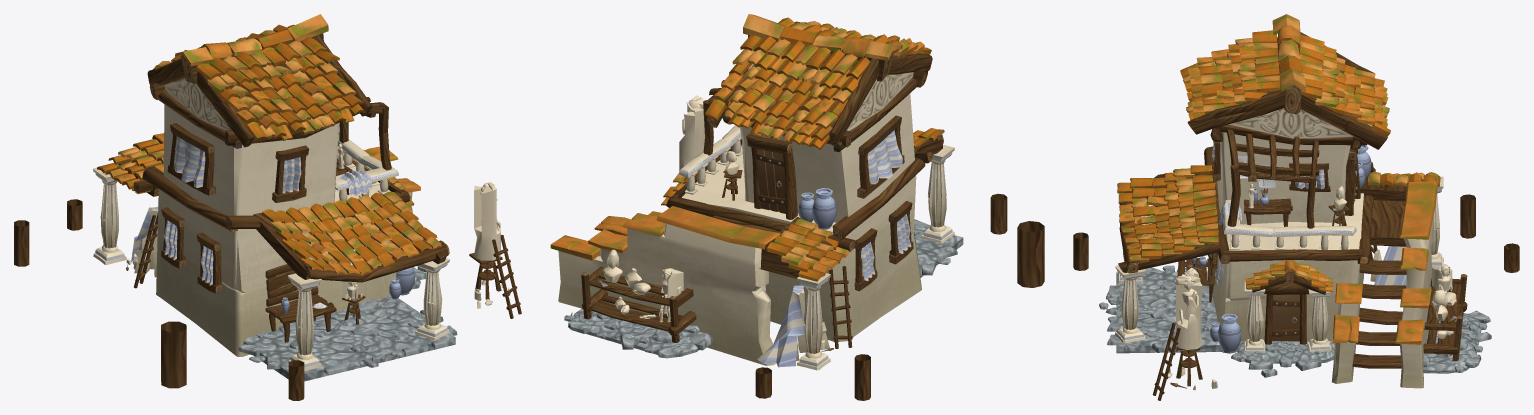
The model's file is greek_sculptor_greek_sculptor_house.glb.
3 views of the same model, side by side, from view 1: azimuth 30°, elevation 25°; view 2: azimuth 150°, elevation 25°; view 3: azimuth 270°, elevation 25° (orthographic). The views are drawn at different scales.
Visible parts, largest first — view 1: ambientLight4_HouseTEX_0; view 2: ambientLight4_HouseTEX_0; view 3: ambientLight4_HouseTEX_0.
Part boxes in pixels (x1,y1,x2,y2): ambientLight4_HouseTEX_0: (14,14,521,400); ambientLight4_HouseTEX_0: (550,14,1044,400); ambientLight4_HouseTEX_0: (1073,14,1519,400).
Bounding box in the file's own units: 7.67 × 5.71 × 8.8.
Materials: 1 (1 with a texture image).
